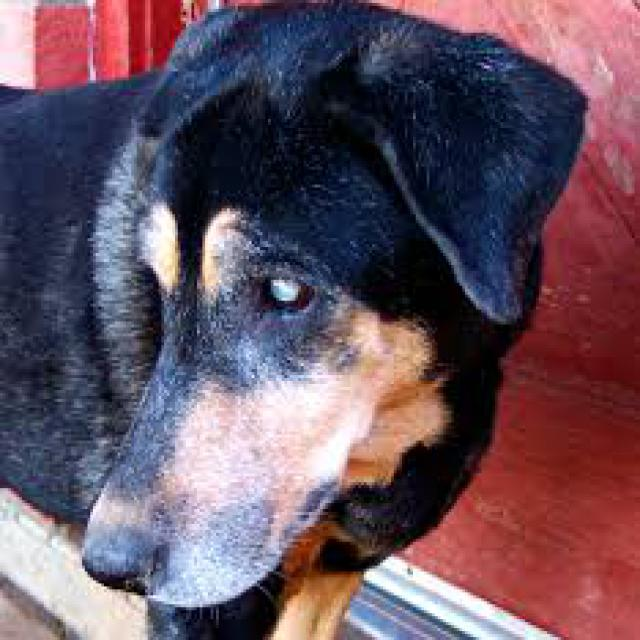eye: (254, 269, 320, 320)
